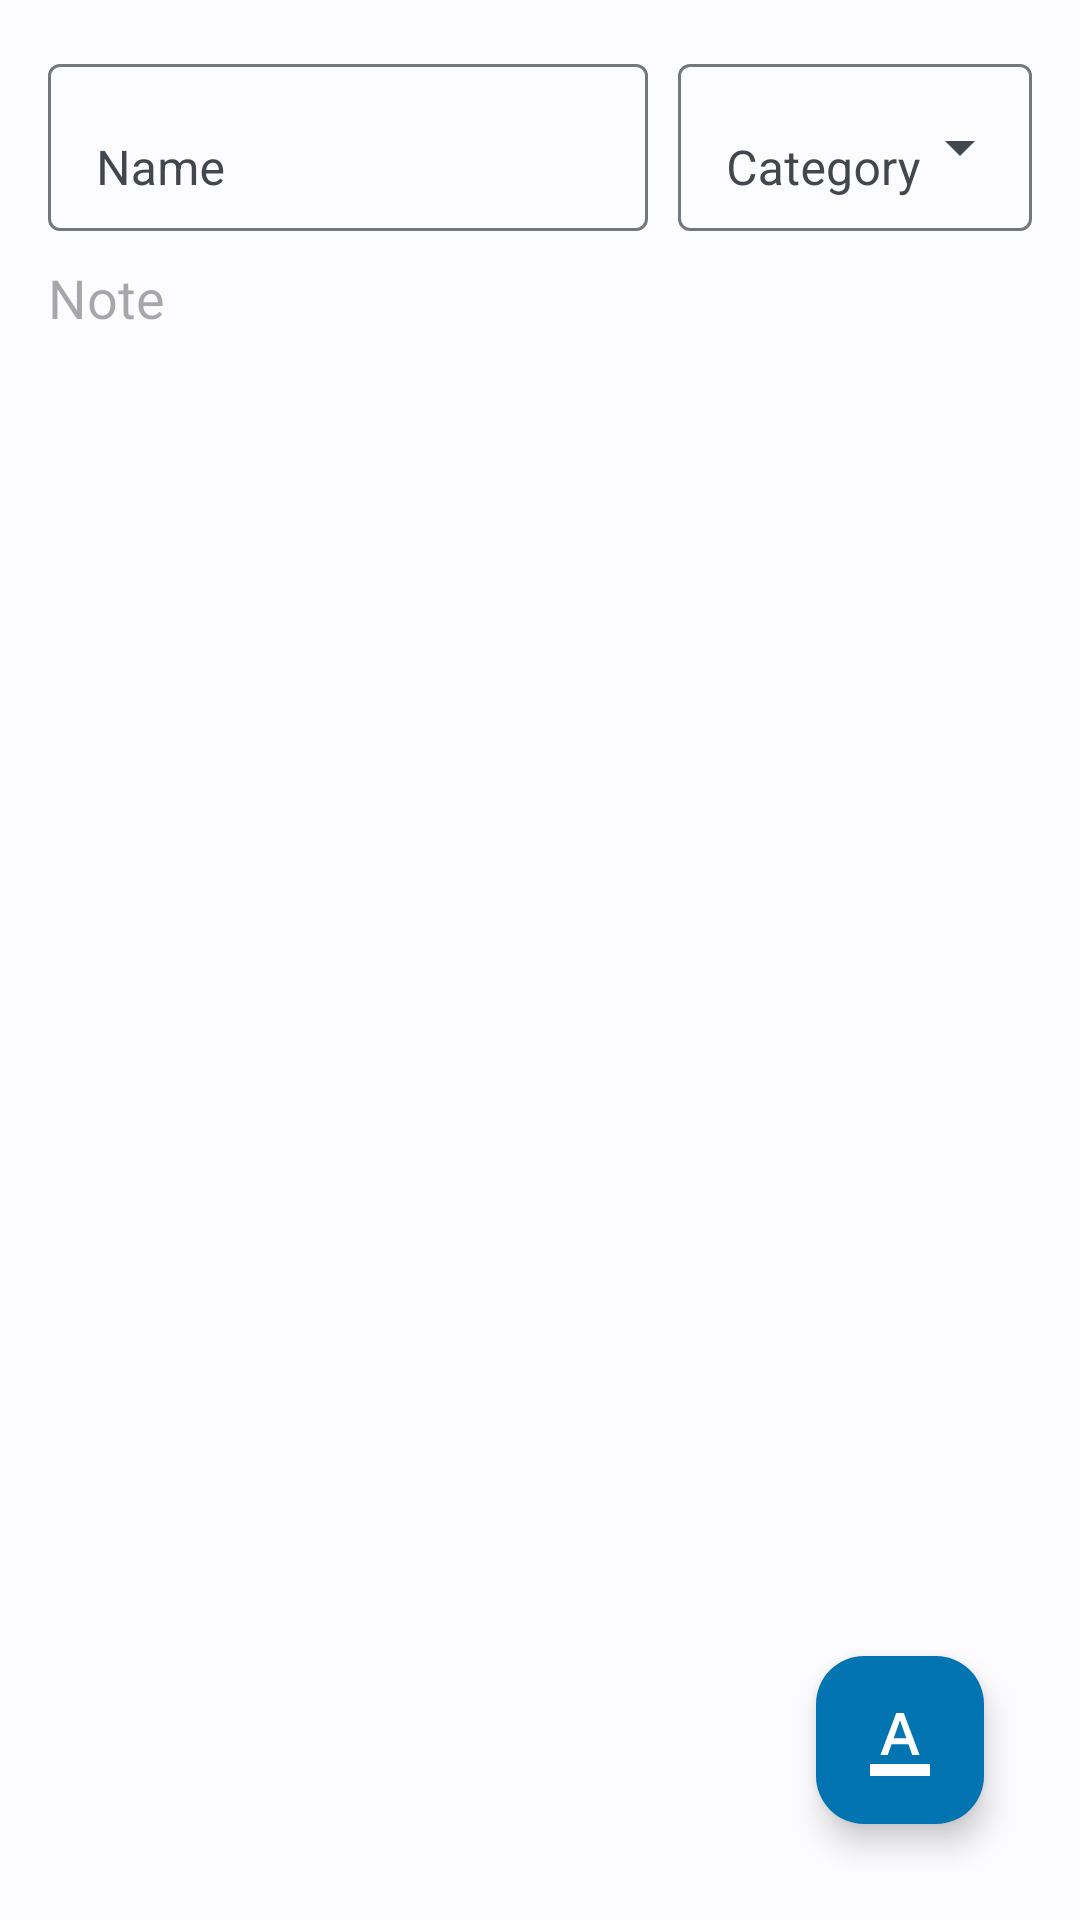

Icons on this 1080w x 1920h Android screen, each with the point to tap as (x,y):
Formatting: (900,1740)
